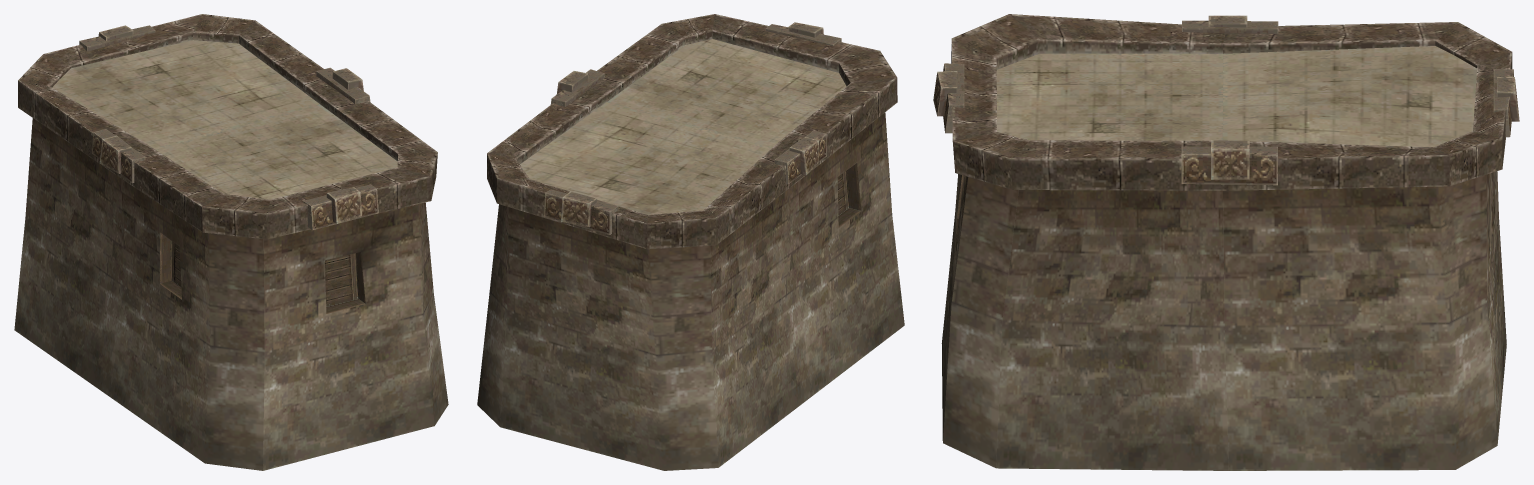
File: OZ_09_sn_T04bldg06C.glb
The picture shows the model from 3 angles, left to right: view 1: azimuth 30°, elevation 25°; view 2: azimuth 150°, elevation 25°; view 3: azimuth 270°, elevation 25°; orthographic projection. The views are drawn at different scales.
Visible parts, largest first — view 1: OM_09_sn_T04bldg06C; view 2: OM_09_sn_T04bldg06C; view 3: OM_09_sn_T04bldg06C.
Boxes of the visible parts, bbox=[...] form: OM_09_sn_T04bldg06C: bbox=[14, 14, 448, 470]; OM_09_sn_T04bldg06C: bbox=[477, 14, 904, 470]; OM_09_sn_T04bldg06C: bbox=[933, 14, 1519, 470].
Bounding box in the file's own units: 6.15 × 6.21 × 10.14.
Materials: 5 (5 with a texture image).
